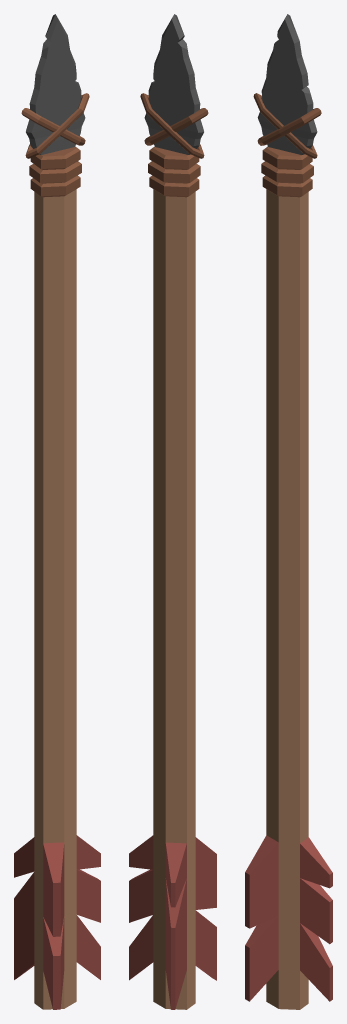
File: Stone Arrow.fbx
The picture shows the model from 3 angles, left to right: view 1: azimuth 30°, elevation 25°; view 2: azimuth 150°, elevation 25°; view 3: azimuth 330°, elevation 25°; orthographic projection.
Visible parts, largest first — view 1: Stone Arrow; view 2: Stone Arrow; view 3: Stone Arrow.
Boxes of the visible parts, x1,y1,x2,y2 form: Stone Arrow: (14,14,100,1009); Stone Arrow: (129,14,216,1009); Stone Arrow: (245,14,332,1009).
Bounding box in the file's own units: 4.92 × 59.7 × 4.67.
